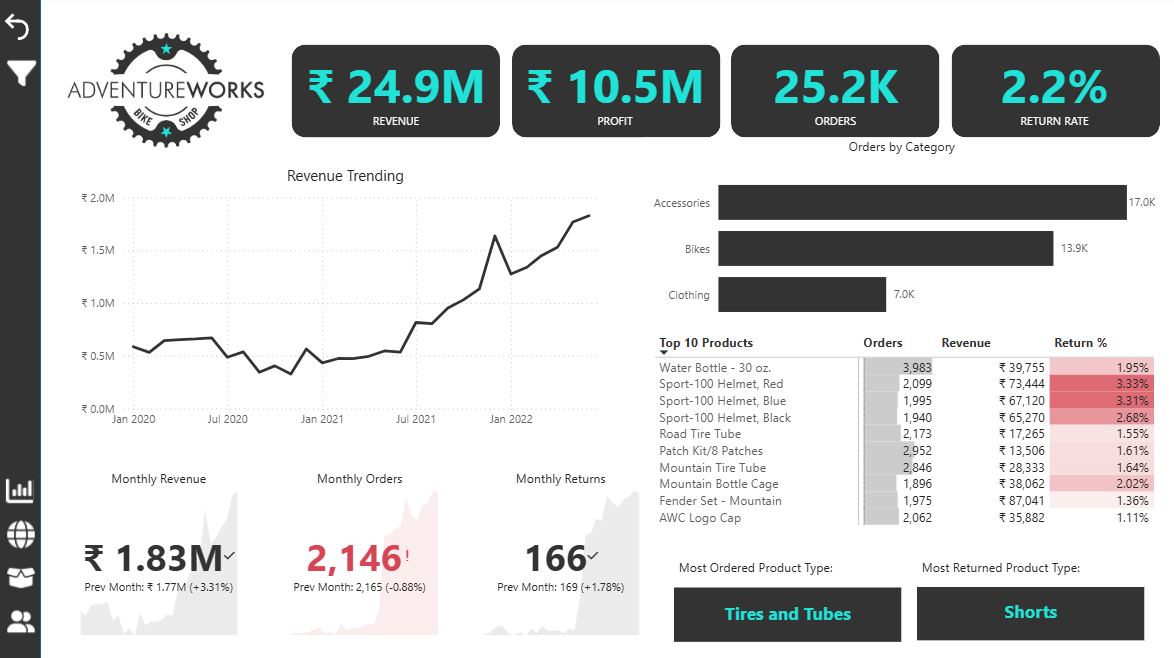

The dashboard page shown, as its layout file describes it:
{"tool":"powerbi","page":{"name":"Exec Dashboard","canvas":[1280,720],"ordinal":0},"visuals":[{"type":"image","title":"AW Logo","box":[45.3,22.7,270.4,160.3],"z":0},{"type":"card","fields":{"Values":["Measure Table.Total Revenue"]},"box":[293.1,22.7,270.4,160.3],"z":0,"group":"g2"},{"type":"shape","box":[315.7,53.4,225.1,100.4],"z":0,"group":"g1"},{"type":"actionButton","box":[2.5,516.7,45.6,37.8],"z":0,"group":"g3"},{"type":"card","fields":{"Values":["Measure Table.Return Rate"]},"box":[1003.9,22.7,270.4,160.3],"z":1000,"group":"g2"},{"type":"shape","box":[553.2,53.4,225.1,100.4],"z":1000,"group":"g1"},{"type":"actionButton","box":[0,144.1,48.6,163.5],"z":1000},{"type":"actionButton","box":[3.3,563.4,45.6,37.8],"z":1000,"group":"g3"},{"type":"shape","title":"Left Nav Background","box":[0,0,45.3,720.6],"z":2000},{"type":"card","fields":{"Values":["Measure Table.Total Orders"]},"box":[767,22.7,270.4,160.3],"z":2000,"group":"g2"},{"type":"shape","box":[790.7,53.4,225.1,100.4],"z":2000,"group":"g1"},{"type":"actionButton","box":[3.3,611.1,45.6,37.8],"z":2000,"group":"g3"},{"type":"card","fields":{"Values":["Measure Table.Total Profit"]},"box":[530,22.7,270.4,160.3],"z":3000,"group":"g2"},{"type":"group","id":"g1","title":"KPI Background","box":[315.7,53.4,937.5,100.4],"z":3000},{"type":"shape","box":[1028.2,53.4,225.1,100.4],"z":3000,"group":"g1"},{"type":"actionButton","box":[3.3,657.8,45.6,37.8],"z":3000,"group":"g3"},{"type":"group","id":"g2","title":"KPIs","box":[293.1,22.7,981.3,160.3],"z":4000},{"type":"kpi","title":"Monthly Revenue","fields":{"Indicator":["Measure Table.Total Revenue"],"TrendLine":["Calendar Lookup.Start of Month"],"Goal":["Measure Table.Previous Month Revenue"]},"box":[82.6,511.7,179.7,184.6],"z":5000},{"type":"kpi","title":"Monthly Returns","fields":{"TrendLine":["Calendar Lookup.Start of Month"],"Indicator":["Measure Table.Total Returns"],"Goal":["Measure Table.Previous Month Returns"]},"box":[516.5,511.7,179.7,184.6],"z":6000},{"type":"kpi","title":"Monthly Orders","fields":{"TrendLine":["Calendar Lookup.Start of Month"],"Indicator":["Measure Table.Total Orders"],"Goal":["Measure Table.Previous Month Orders"]},"box":[299.6,511.7,179.7,184.6],"z":7000},{"type":"barChart","title":"Orders by Category","fields":{"Category":["Product Categories Lookup.CategoryName"],"Y":["Measure Table.Total Orders"]},"box":[696.7,153.3,556.7,215],"z":8000},{"type":"pivotTable","fields":{"Rows":["Product Lookup.ProductName"],"Values":["Measure Table.Total Orders","Measure Table.Total Revenue","Measure Table.Return Rate"]},"box":[703.3,360,576.7,231.7],"z":9000},{"type":"card","fields":{"Values":["Min(Product Subcategories Lookup.SubcategoryName)"]},"box":[728.3,639.4,245,58.3],"z":10000},{"type":"textbox","box":[728.3,602.8,245,36.7],"z":11000},{"type":"card","fields":{"Values":["Min(Product Subcategories Lookup.SubcategoryName)"]},"box":[991.7,638.3,245,58.3],"z":12000},{"type":"textbox","box":[991.7,601.7,245,36.7],"z":13000},{"type":"actionButton","box":[0,14.6,45.3,38.9],"z":14000},{"type":"group","id":"g3","title":"Navigation Buttons","box":[2.5,516.7,46.4,178.9],"z":15000},{"type":"actionButton","box":[4.9,64.3,42.9,39.6],"z":17000},{"type":"lineChart","title":"Revenue Trending","fields":{"Y":["Measure Table.Total Revenue"],"Category":["Calendar Lookup.Start of Year","Calendar Lookup.Start of Quarter","Calendar Lookup.Start of Month"]},"box":[82.6,183,582.9,293.1],"z":18000}]}

Visuals, with their boxes on the page's 1280x720 design canvas (x1, y1, x2, y2). These are canvas units, not pixel positions in the 1174x658 screenshot, which may show the page scaled, cropped or inside an application window:
"AW Logo" image: left=45, top=23, right=316, bottom=183
card - Measure Table.Total Revenue: left=293, top=23, right=564, bottom=183
shape: left=316, top=53, right=541, bottom=154
actionButton: left=2, top=517, right=48, bottom=554
card - Measure Table.Return Rate: left=1004, top=23, right=1274, bottom=183
shape: left=553, top=53, right=778, bottom=154
actionButton: left=0, top=144, right=49, bottom=308
actionButton: left=3, top=563, right=49, bottom=601
"Left Nav Background" shape: left=0, top=0, right=45, bottom=721
card - Measure Table.Total Orders: left=767, top=23, right=1037, bottom=183
shape: left=791, top=53, right=1016, bottom=154
actionButton: left=3, top=611, right=49, bottom=649
card - Measure Table.Total Profit: left=530, top=23, right=800, bottom=183
"KPI Background" group: left=316, top=53, right=1253, bottom=154
shape: left=1028, top=53, right=1253, bottom=154
actionButton: left=3, top=658, right=49, bottom=696
"KPIs" group: left=293, top=23, right=1274, bottom=183
"Monthly Revenue" kpi: left=83, top=512, right=262, bottom=696
"Monthly Returns" kpi: left=516, top=512, right=696, bottom=696
"Monthly Orders" kpi: left=300, top=512, right=479, bottom=696
"Orders by Category" barChart: left=697, top=153, right=1253, bottom=368
pivotTable - Product Lookup.ProductName x Measure Table.Total Orders: left=703, top=360, right=1280, bottom=592
card - Min(Product Subcategories Lookup.SubcategoryName): left=728, top=639, right=973, bottom=698
textbox: left=728, top=603, right=973, bottom=640
card - Min(Product Subcategories Lookup.SubcategoryName): left=992, top=638, right=1237, bottom=697
textbox: left=992, top=602, right=1237, bottom=638
actionButton: left=0, top=15, right=45, bottom=54
"Navigation Buttons" group: left=2, top=517, right=49, bottom=696
actionButton: left=5, top=64, right=48, bottom=104
"Revenue Trending" lineChart: left=83, top=183, right=666, bottom=476
